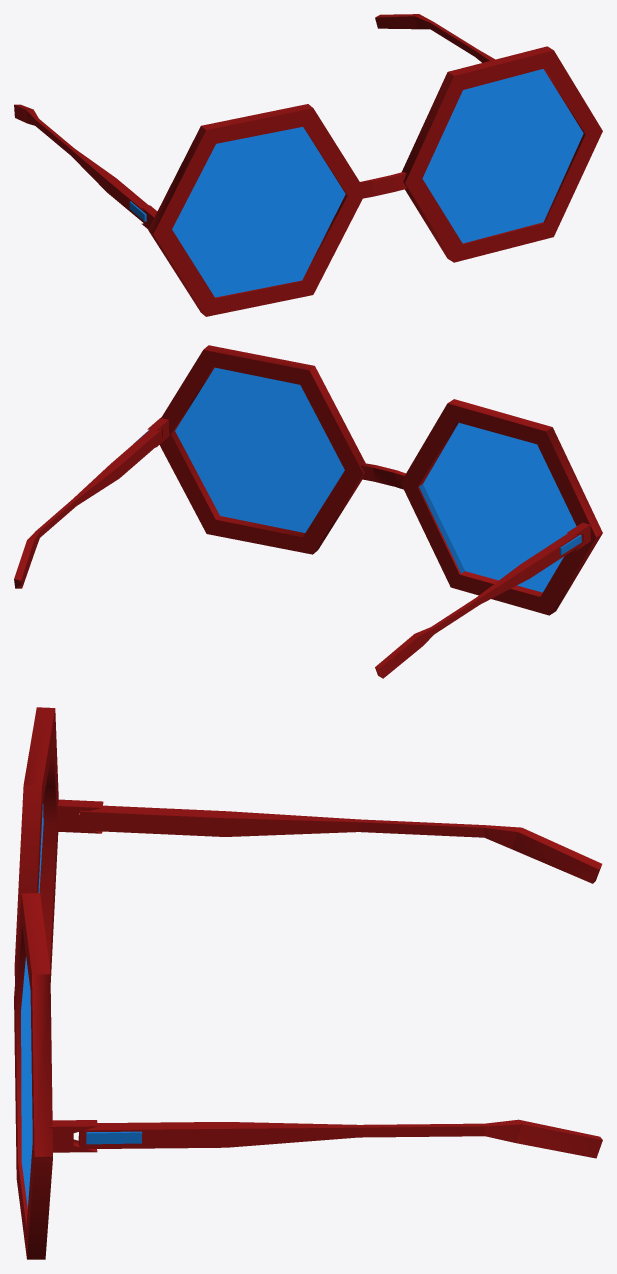
The model's file is Spects_.FBX.
3 renders of one model, top to bottom at view 1: azimuth 30°, elevation 25°; view 2: azimuth 150°, elevation 25°; view 3: azimuth 270°, elevation 25°, orthographic. The views are drawn at different scales.
Visible parts, largest first — view 1: Cap_1_3; view 2: Cap_1_3; view 3: Cap_1_3.
Part boxes in pixels (<box>): Cap_1_3: <box>14,14,602,316</box>; Cap_1_3: <box>14,345,602,678</box>; Cap_1_3: <box>14,707,602,1259</box>.
Bounding box in the file's own units: 28.72 × 11.58 × 21.13.
